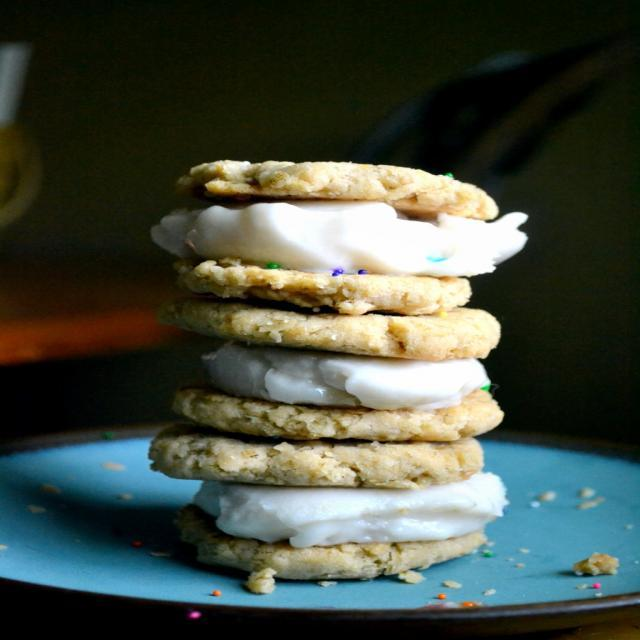Cookie: (142, 156, 534, 584)
